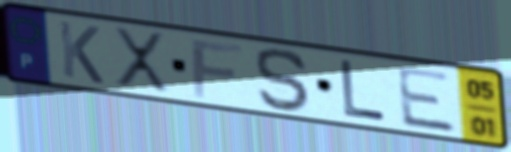E: (394, 64, 461, 136)
F: (188, 38, 246, 101)
K: (55, 18, 107, 87)
L: (338, 57, 389, 125)
S: (253, 45, 315, 115)
X: (111, 24, 173, 98)
